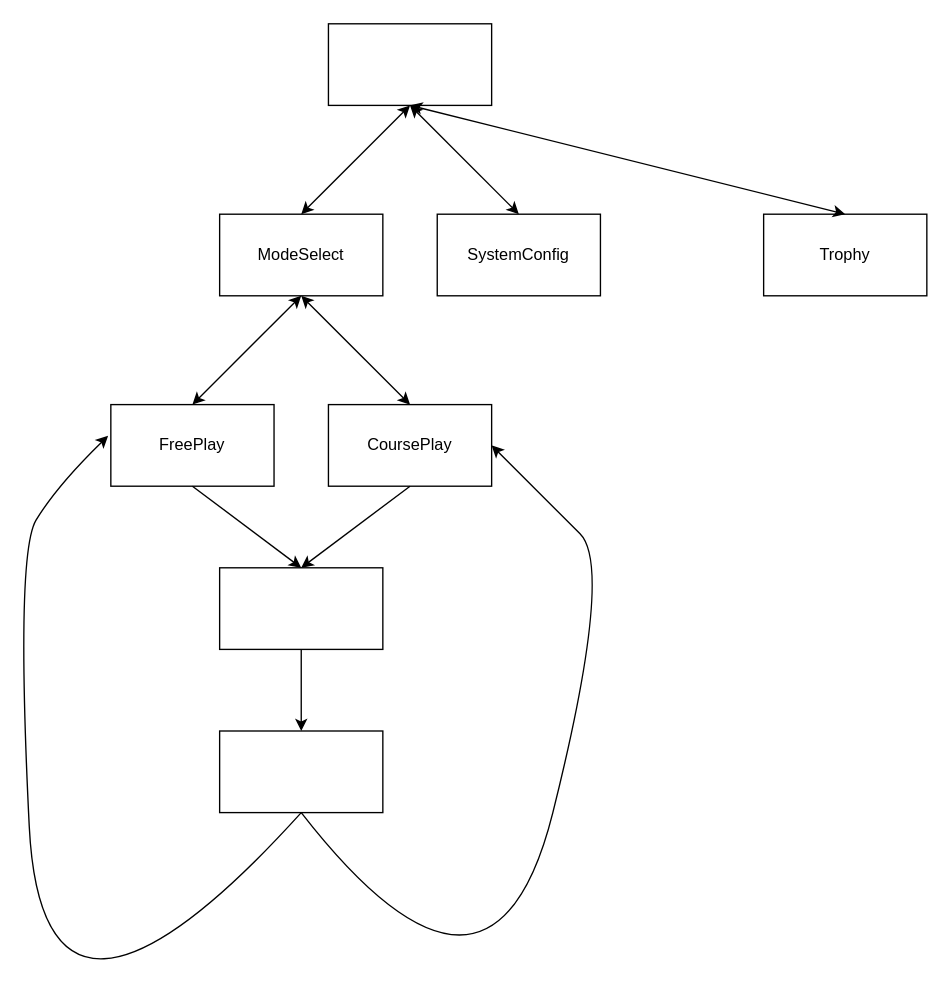
The diagram is 951 pixels wide and 983 high, and some of its shapes have lost their labels. Each missing label, with the centre of its shape:
"GamePlay" goes at (x=300, y=607).
"Result" goes at (x=300, y=771).
"Title" goes at (x=409, y=63).
